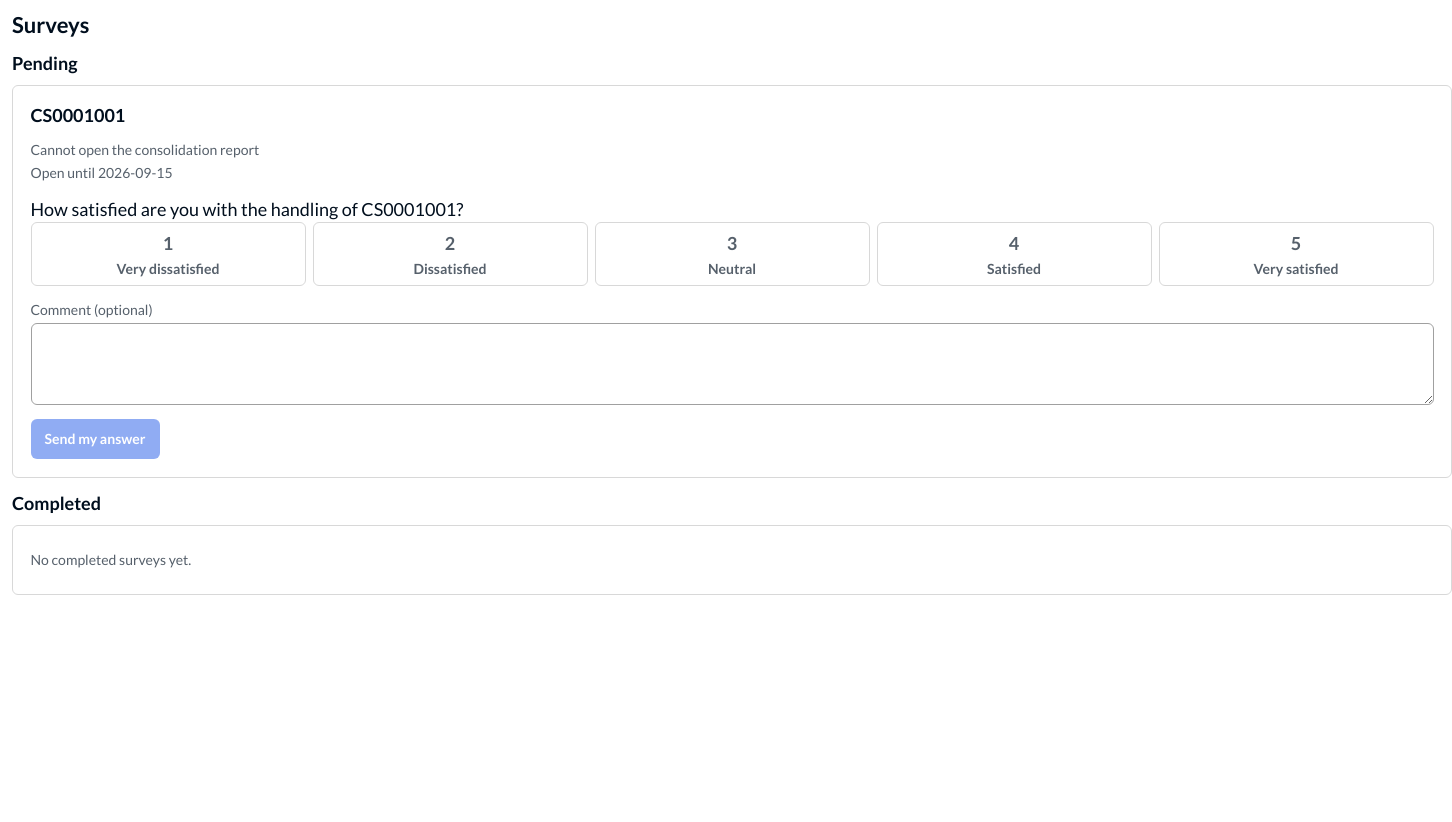
Scenario: portal surveys page › sends only the score without a comment and words already_answered
This screenshot has width=1452, height=822.
Step 1. Click the button with aria-label "2, Dissatisfied" → {"x": 450, "y": 254}, box [312, 222, 588, 286]
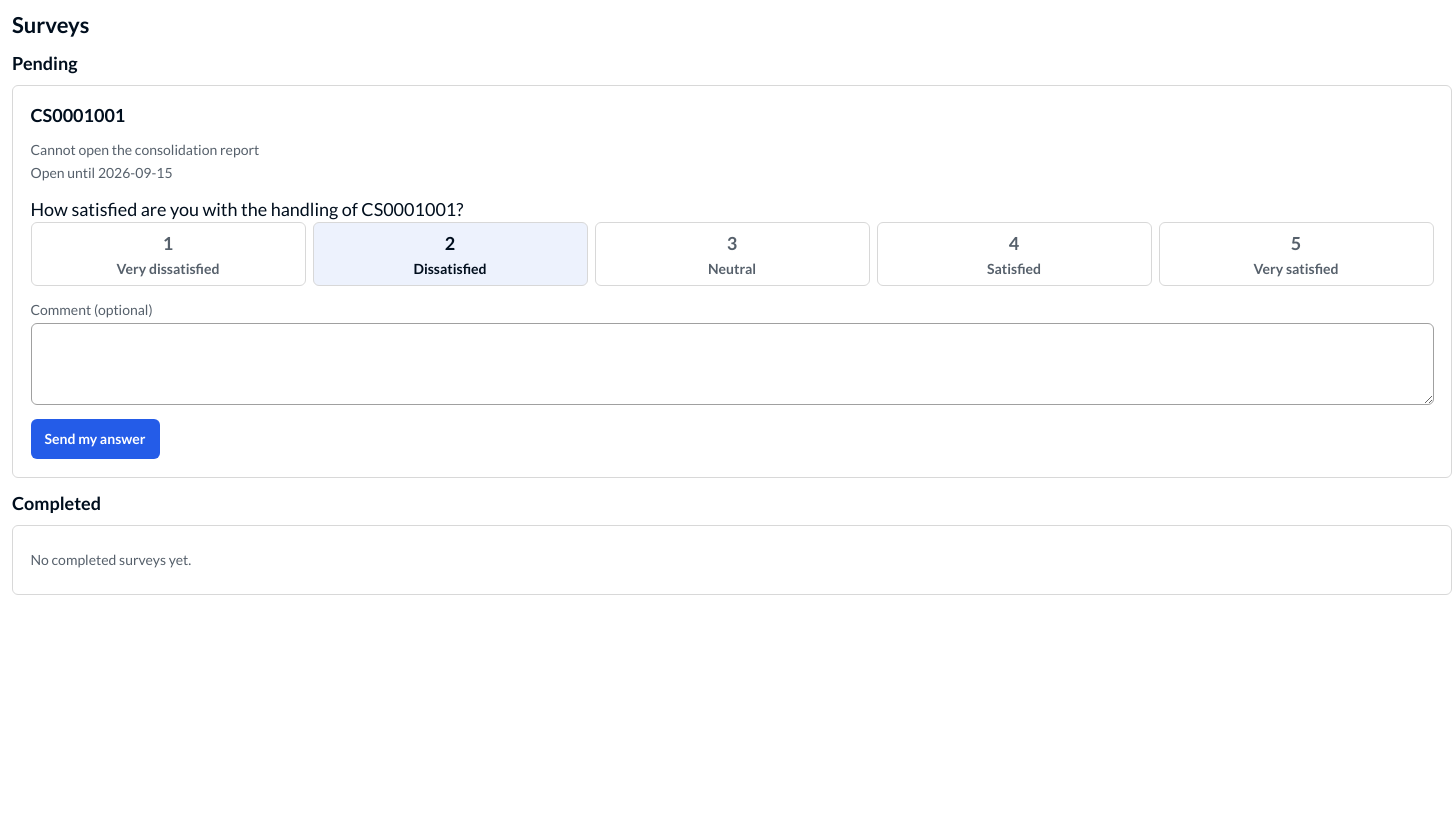
Step 2. Click the button "Send my answer" → {"x": 95, "y": 439}, box [30, 419, 160, 459]
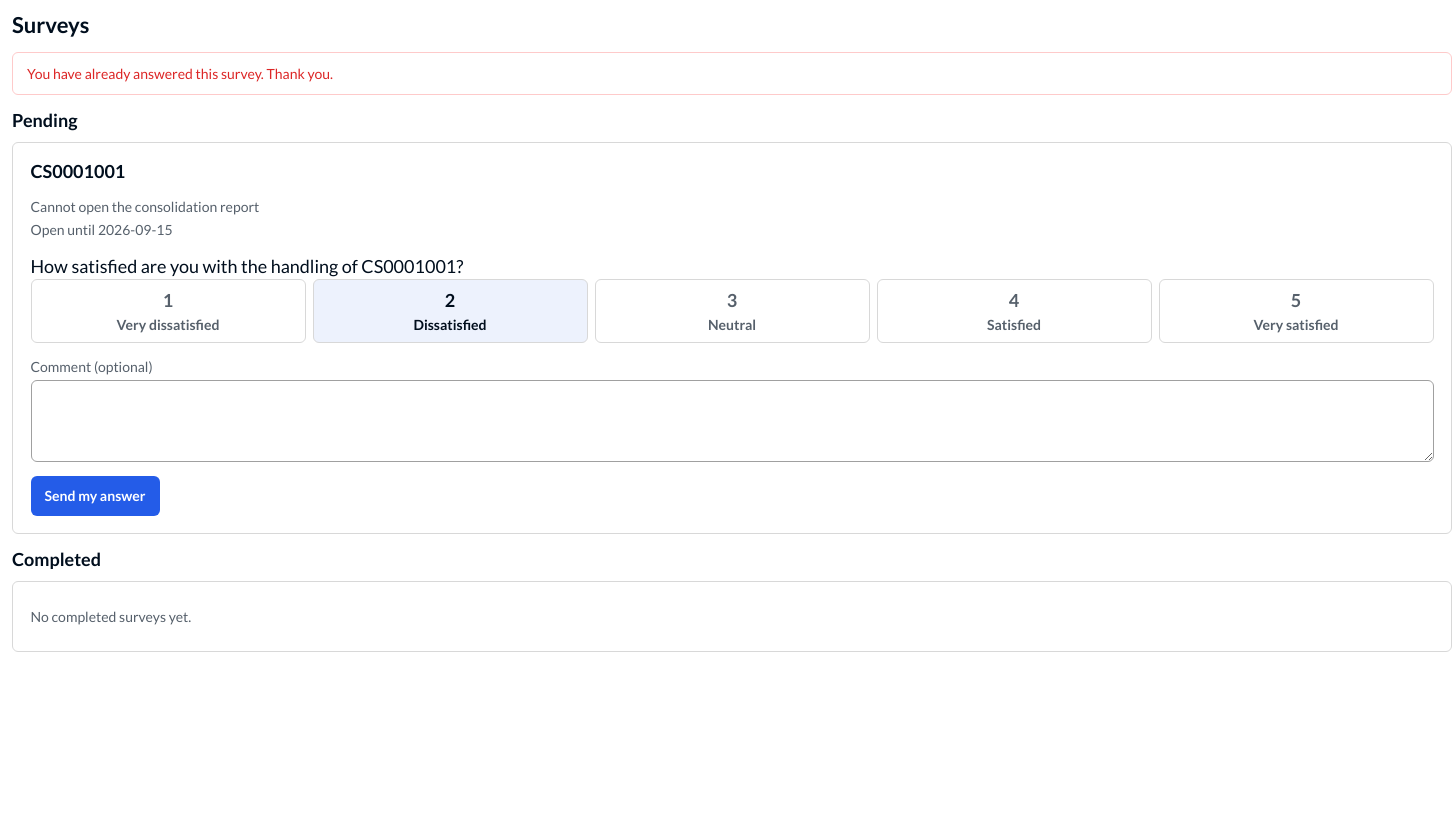
expect the message reads "You have already answered this survey. Thank you.": met, box [27, 65, 333, 82]
